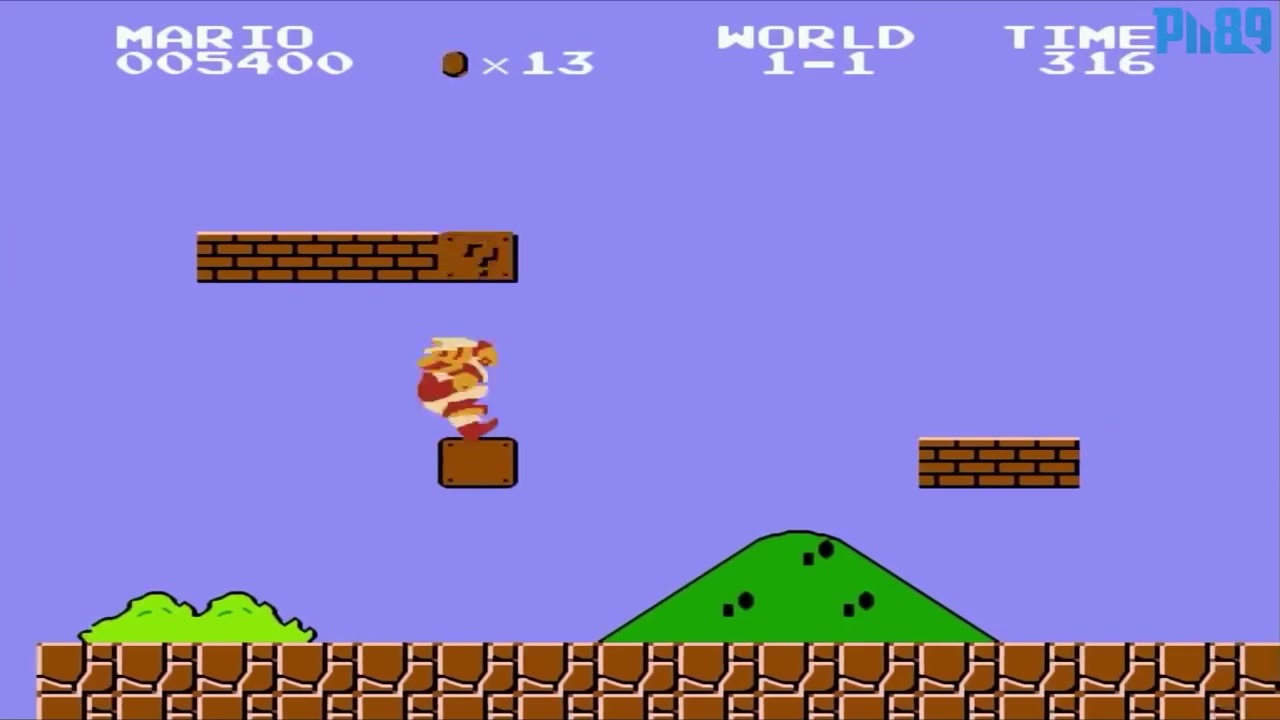mario: (405, 329, 502, 440)
